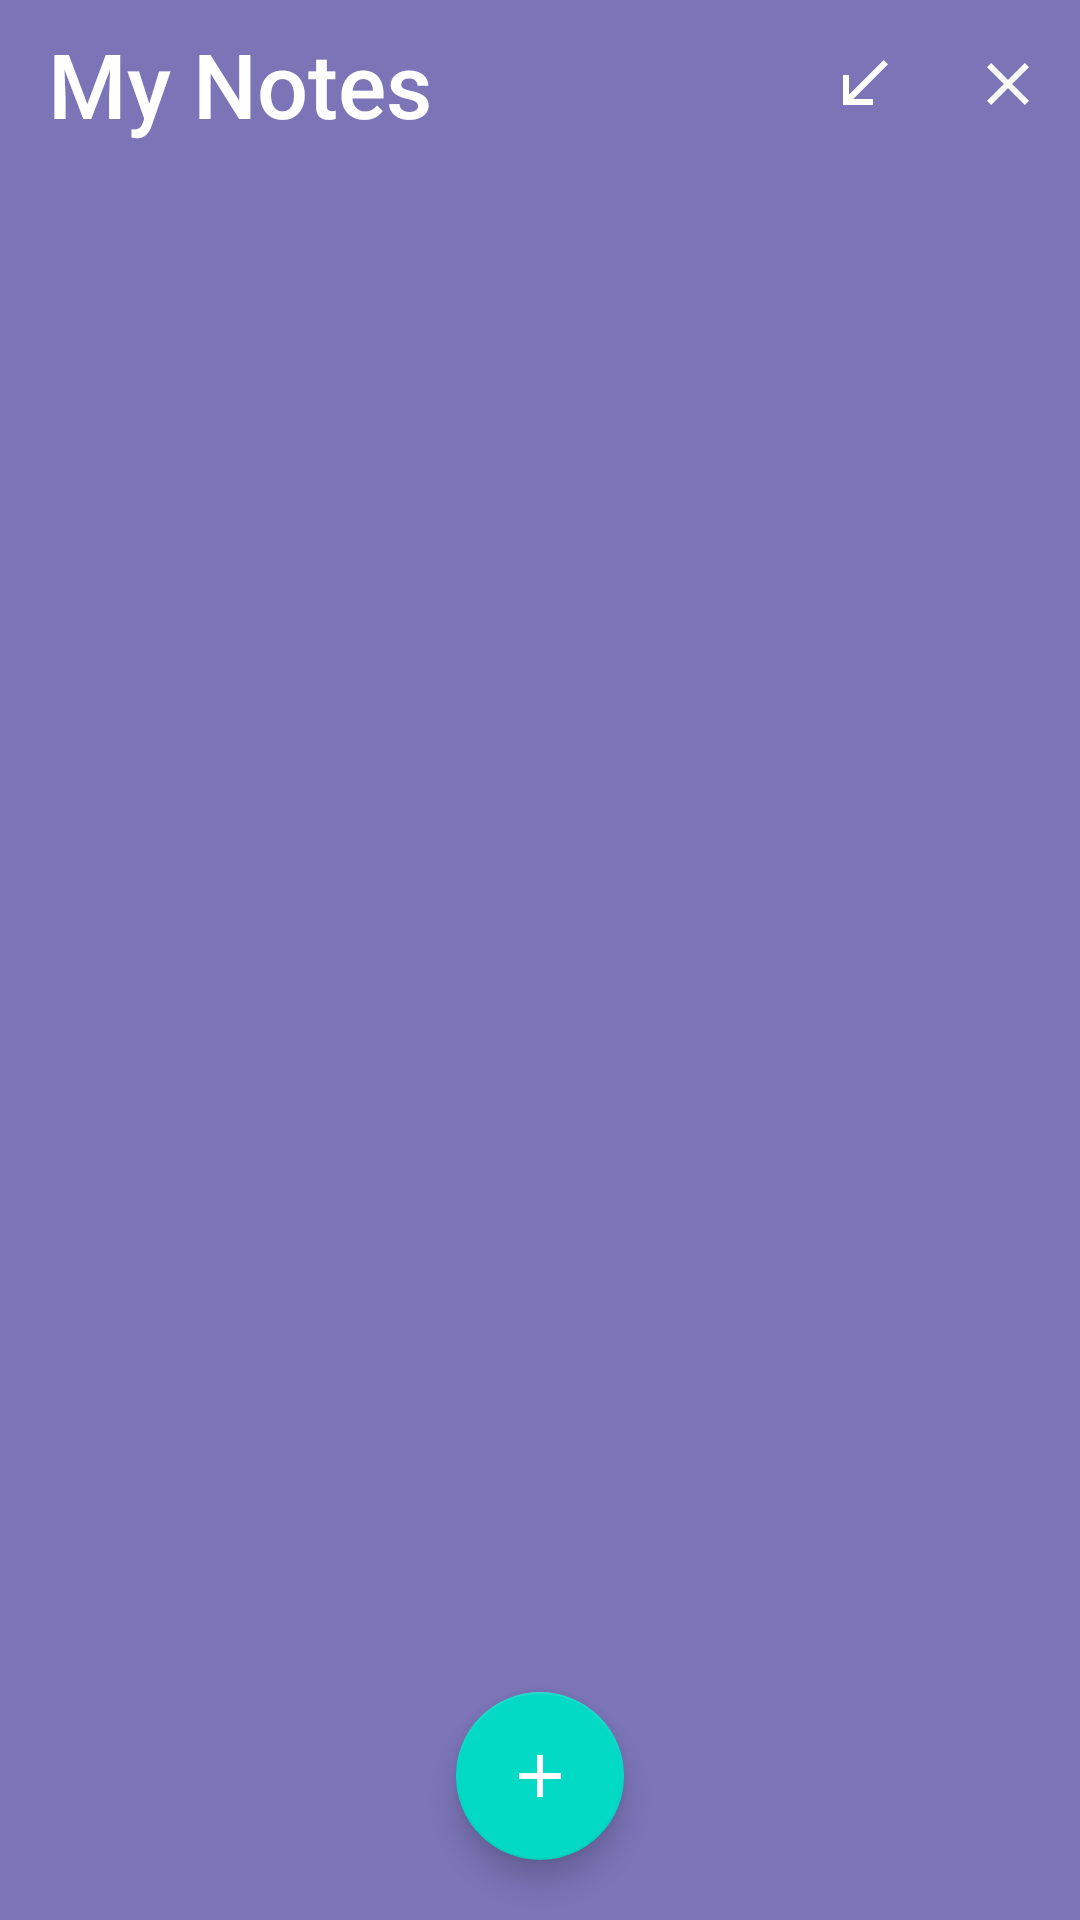

Icon click points for this 1080×1920 phone screenshot, format (x,y):
add: (540,1776)
